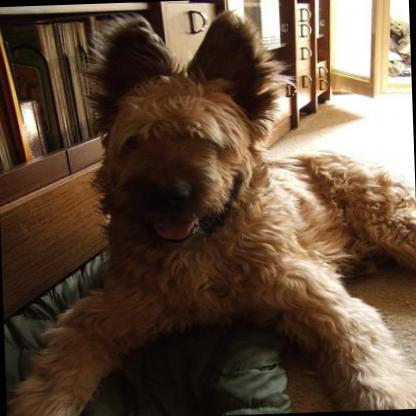briard: (0, 2, 416, 416)
